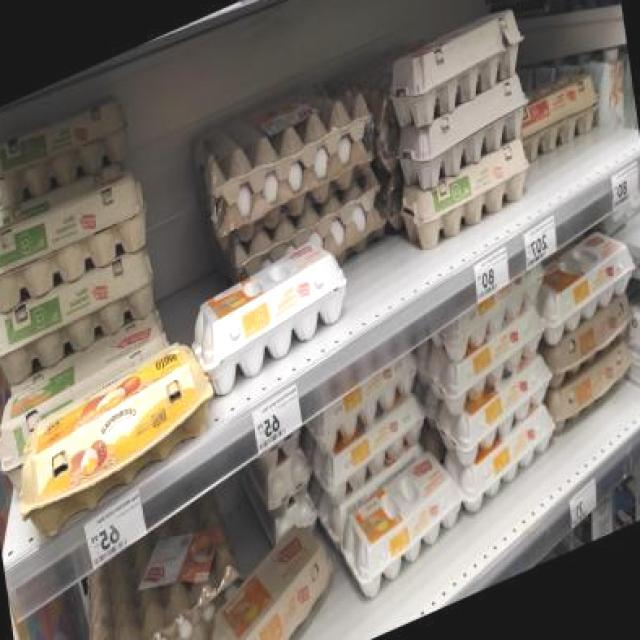Eggs: (9, 332, 220, 547), (188, 228, 354, 402), (0, 240, 164, 392), (0, 164, 156, 322), (335, 438, 469, 606), (0, 82, 138, 220), (200, 518, 344, 640), (398, 134, 532, 259), (435, 356, 557, 470), (311, 392, 433, 505), (426, 308, 548, 420), (262, 446, 313, 506), (268, 488, 318, 548)
